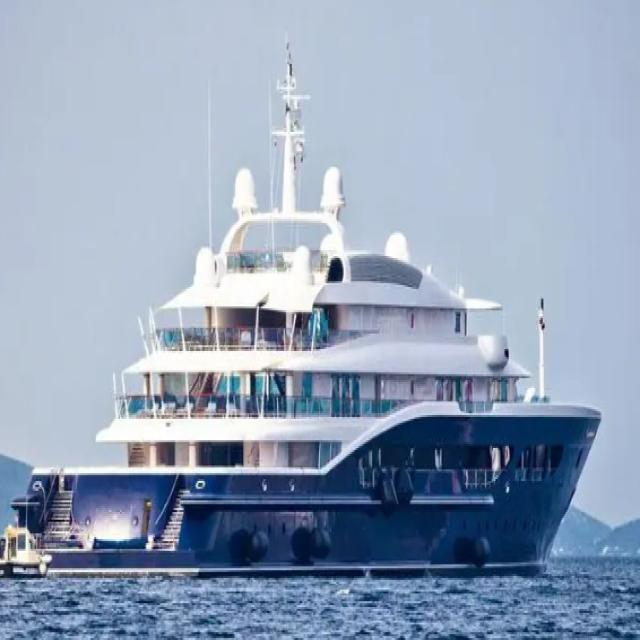passenger ship: (7, 189, 601, 588)
